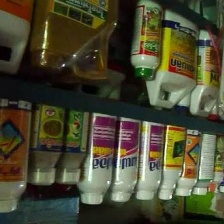insecticide: (27, 0, 122, 84), (140, 5, 200, 113), (76, 106, 121, 206), (0, 93, 33, 216), (26, 98, 70, 189), (187, 26, 224, 121), (106, 106, 141, 205), (132, 110, 168, 202), (52, 101, 90, 188), (129, 0, 166, 83), (157, 120, 186, 202), (174, 123, 205, 199), (192, 125, 218, 199), (204, 126, 223, 194)
